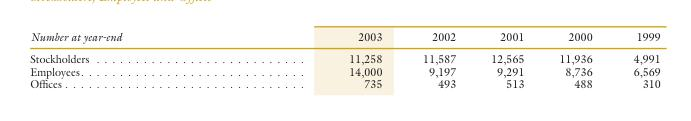table: (29, 29, 659, 90)
table column: (29, 29, 234, 90), (234, 29, 401, 90), (540, 29, 612, 90), (401, 29, 472, 90), (472, 29, 540, 90), (612, 29, 659, 90)
table column header: (29, 29, 659, 47)
table row: (29, 29, 659, 47), (29, 47, 659, 64), (29, 76, 659, 90), (29, 64, 659, 76)
